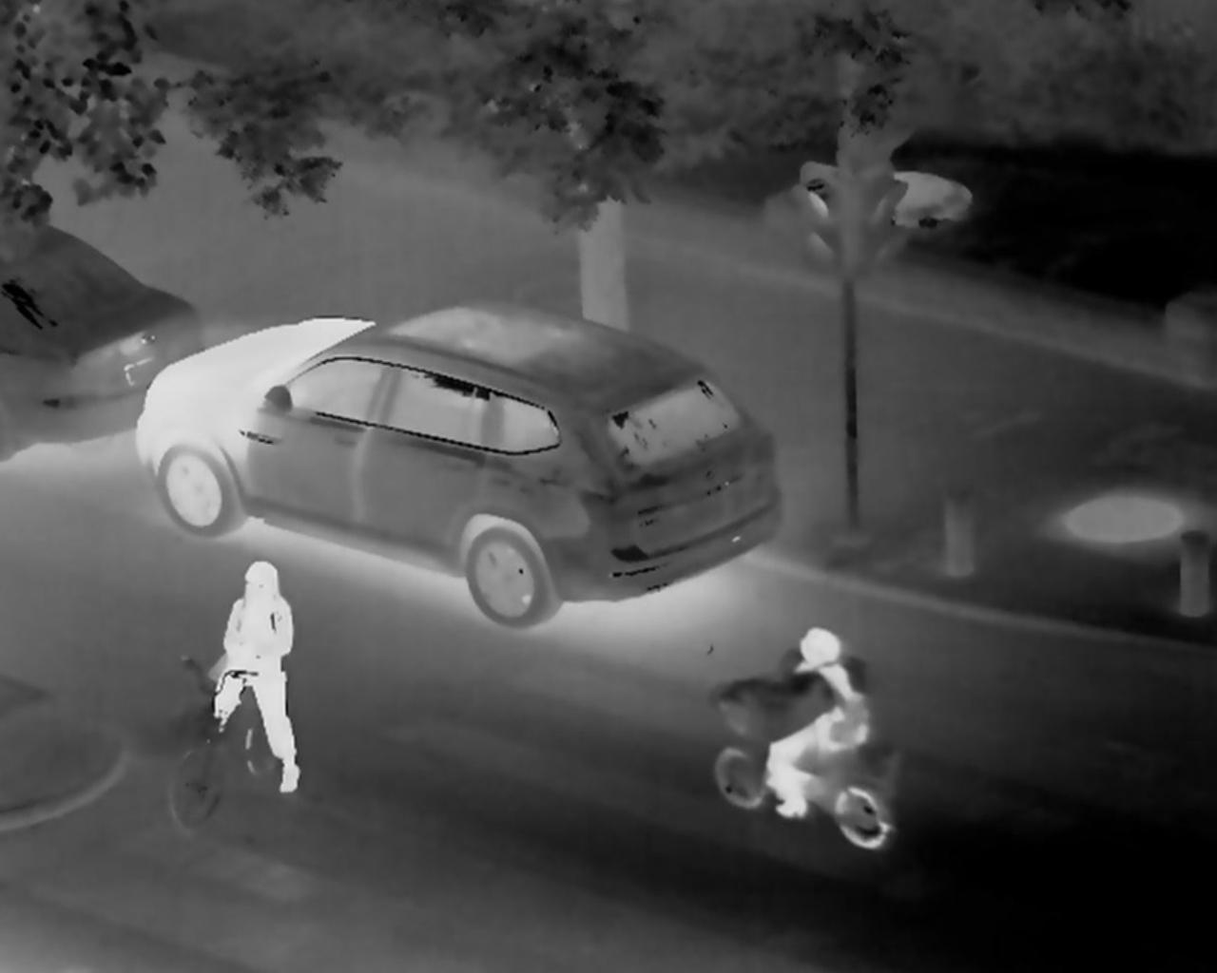person: (763, 622, 870, 825), (213, 557, 305, 793)
